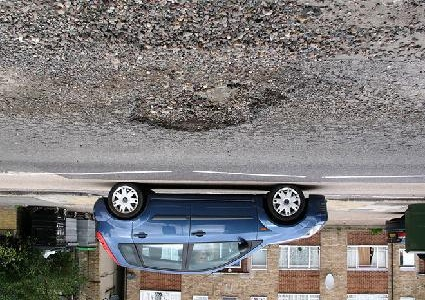pothole: (127, 79, 289, 134)
